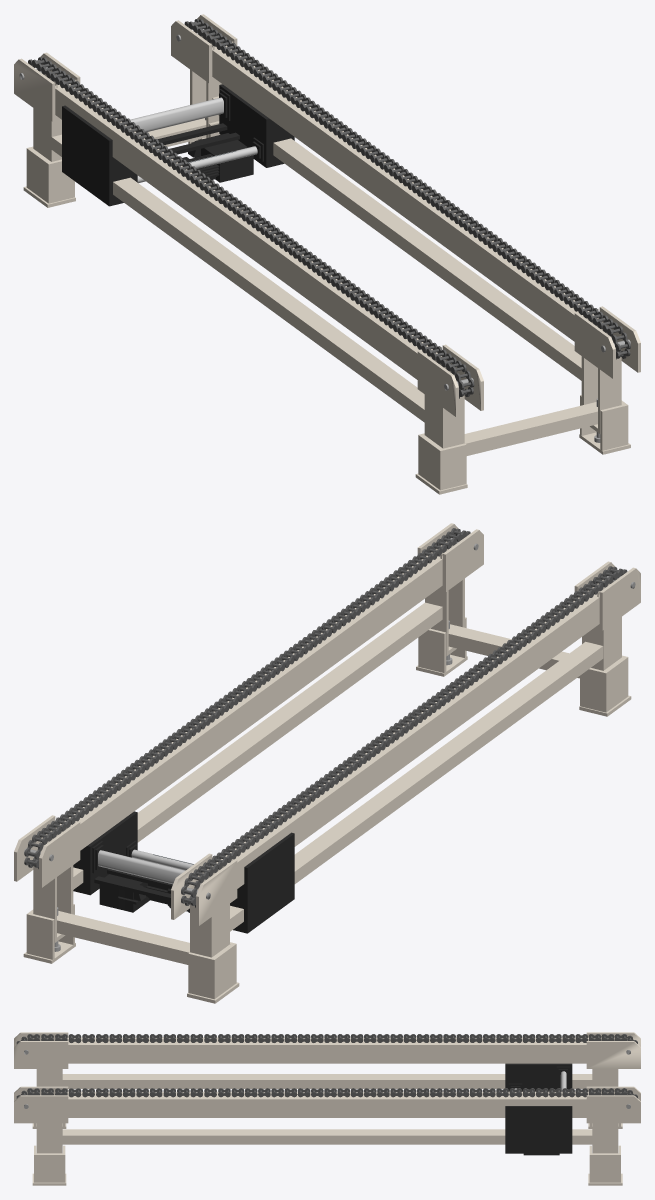
The model's file is chain-medium.glb.
3 views of the same model, one above another, from view 1: azimuth 30°, elevation 25°; view 2: azimuth 150°, elevation 25°; view 3: azimuth 270°, elevation 25° (orthographic). The views are drawn at different scales.
Visible parts, largest first — view 1: chain-medium__三链机体002, chain-medium__链条002, chain-medium__电机003, chain-medium__轴006__fixed; view 2: chain-medium__三链机体002, chain-medium__链条002, chain-medium__电机003, chain-medium__轴006__fixed; view 3: chain-medium__三链机体002, chain-medium__链条002, chain-medium__电机003.
Boxes of the visible parts, x1,y1,x2,y2 form: chain-medium__三链机体002: [14, 14, 640, 494]; chain-medium__链条002: [28, 19, 630, 398]; chain-medium__电机003: [62, 84, 294, 206]; chain-medium__轴006__fixed: [130, 97, 223, 132]; chain-medium__三链机体002: [14, 523, 640, 1003]; chain-medium__链条002: [24, 528, 627, 907]; chain-medium__电机003: [73, 811, 294, 933]; chain-medium__轴006__fixed: [98, 850, 184, 884]; chain-medium__三链机体002: [14, 1032, 640, 1185]; chain-medium__链条002: [16, 1034, 637, 1098]; chain-medium__电机003: [505, 1063, 572, 1155].
Bounding box in the file's own units: 1.47 × 0.9256 × 5.88.
